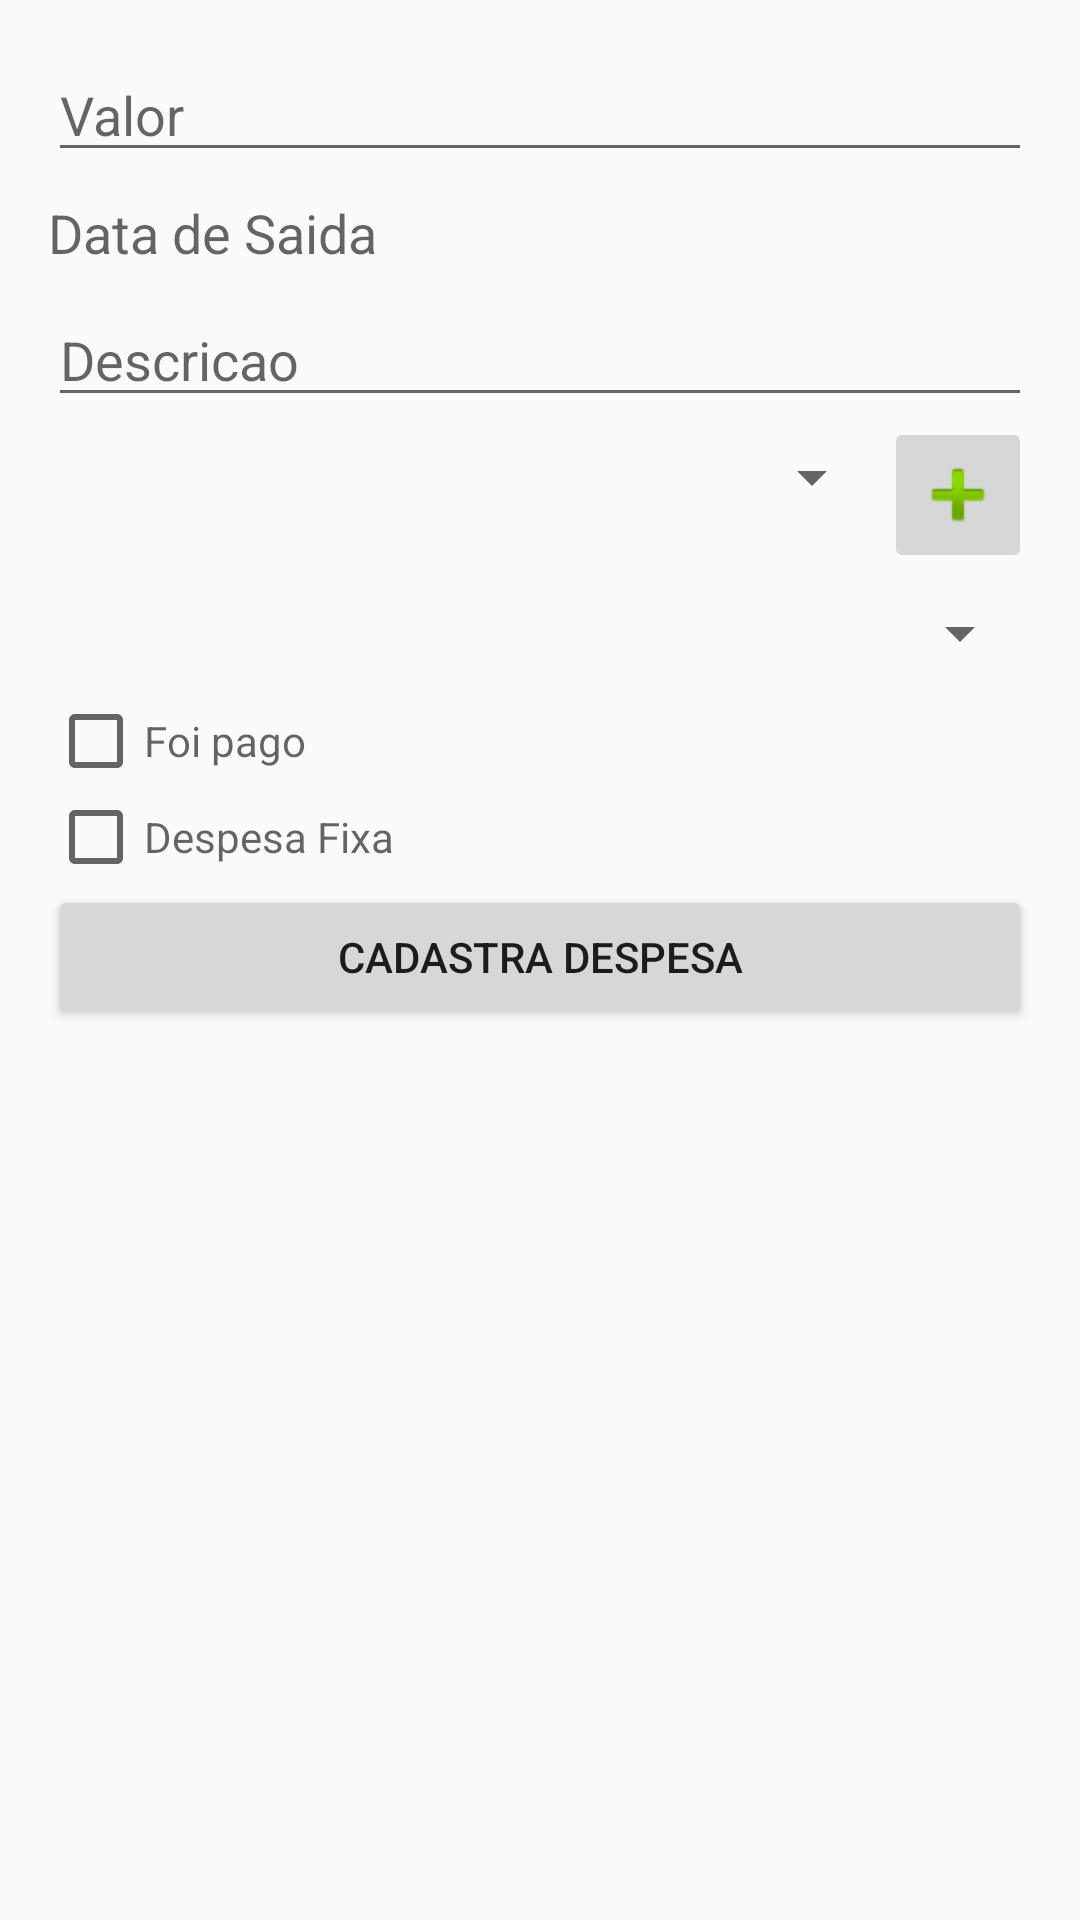

Locate icon controls on the screen. Image size 1080 × 1920, boxes as (x1,y1,x2,y2).
add: (896,435,1020,555)
